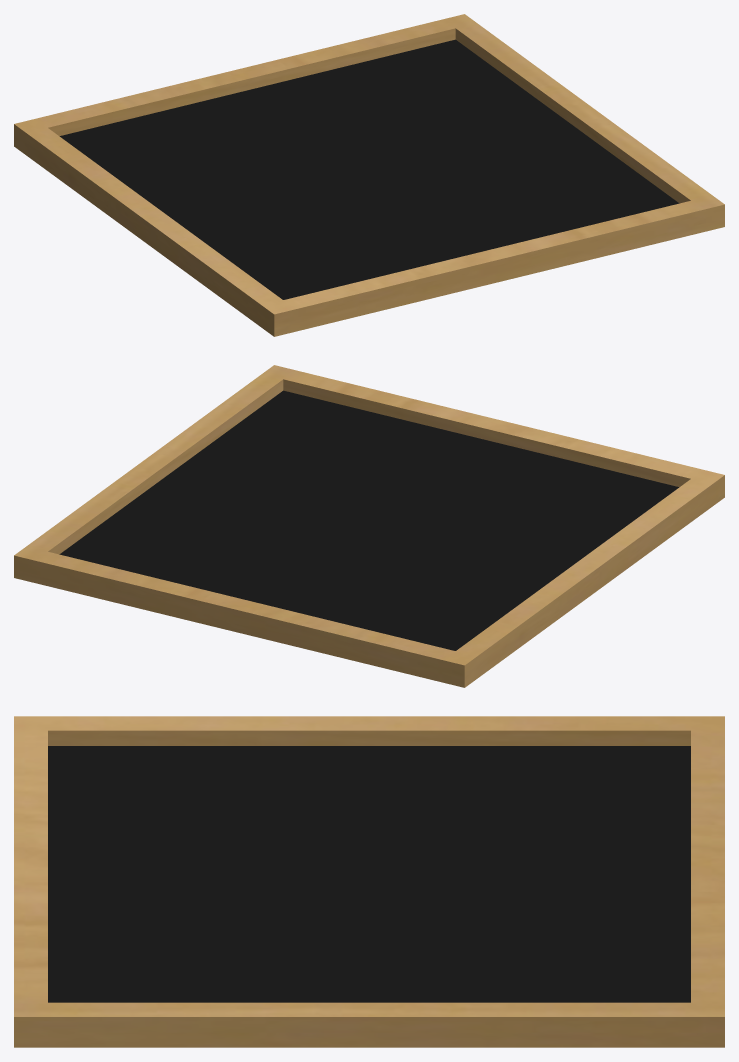
The model's file is bounce_plate.glb.
The picture shows the model from 3 angles, top to bottom: view 1: azimuth 30°, elevation 25°; view 2: azimuth 150°, elevation 25°; view 3: azimuth 270°, elevation 25°; orthographic projection. The views are drawn at different scales.
Parts seen in each view (by area): view 1: Plane; view 2: Plane; view 3: Plane.
Boxes of the visible parts, x1,y1,x2,y2 form: Plane: (14,14,724,336); Plane: (14,365,724,687); Plane: (14,716,724,1047).
Bounding box in the file's own units: 4.2 × 0.2 × 4.2.
Materials: 2 (1 with a texture image).
